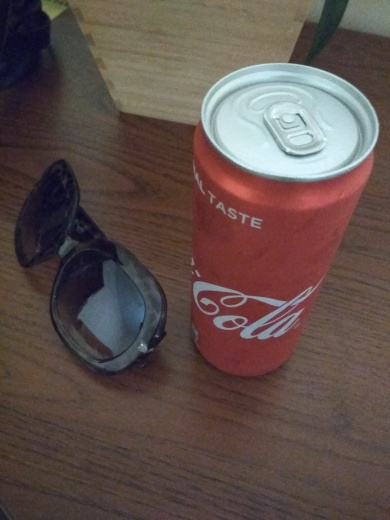cola: (181, 55, 382, 388)
